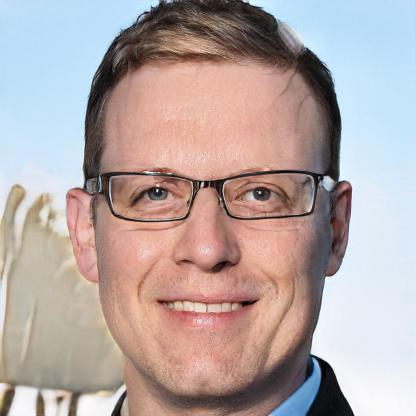glasses: (98, 165, 329, 225)
